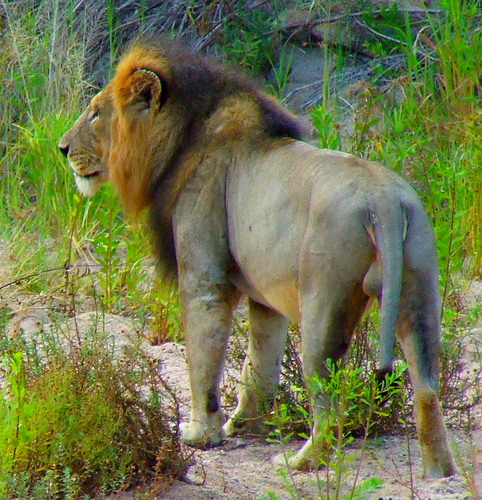lion: (57, 38, 461, 480)
